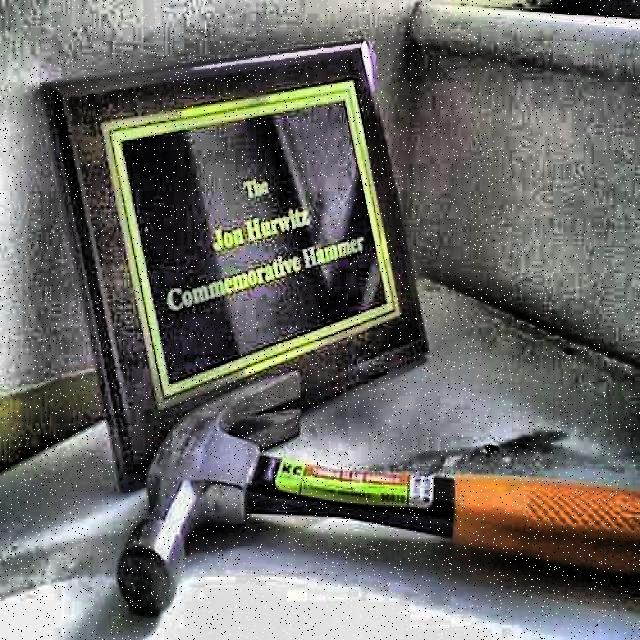hammer: (115, 368, 640, 615)
